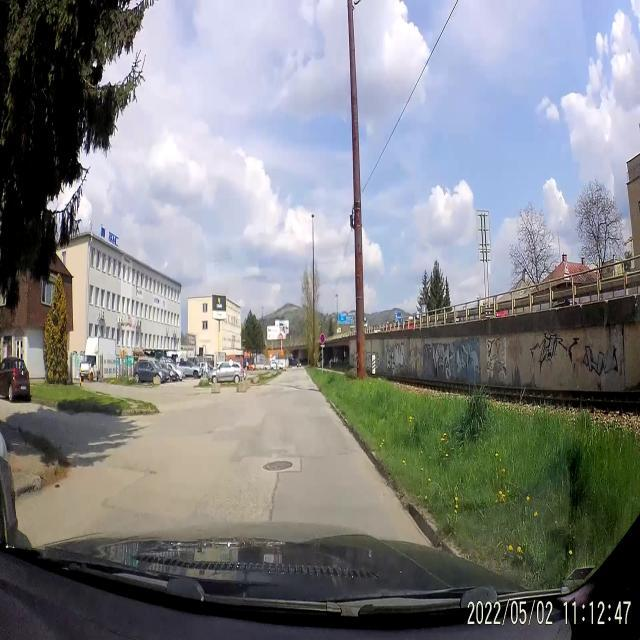Manhole: (258, 456, 298, 478)
